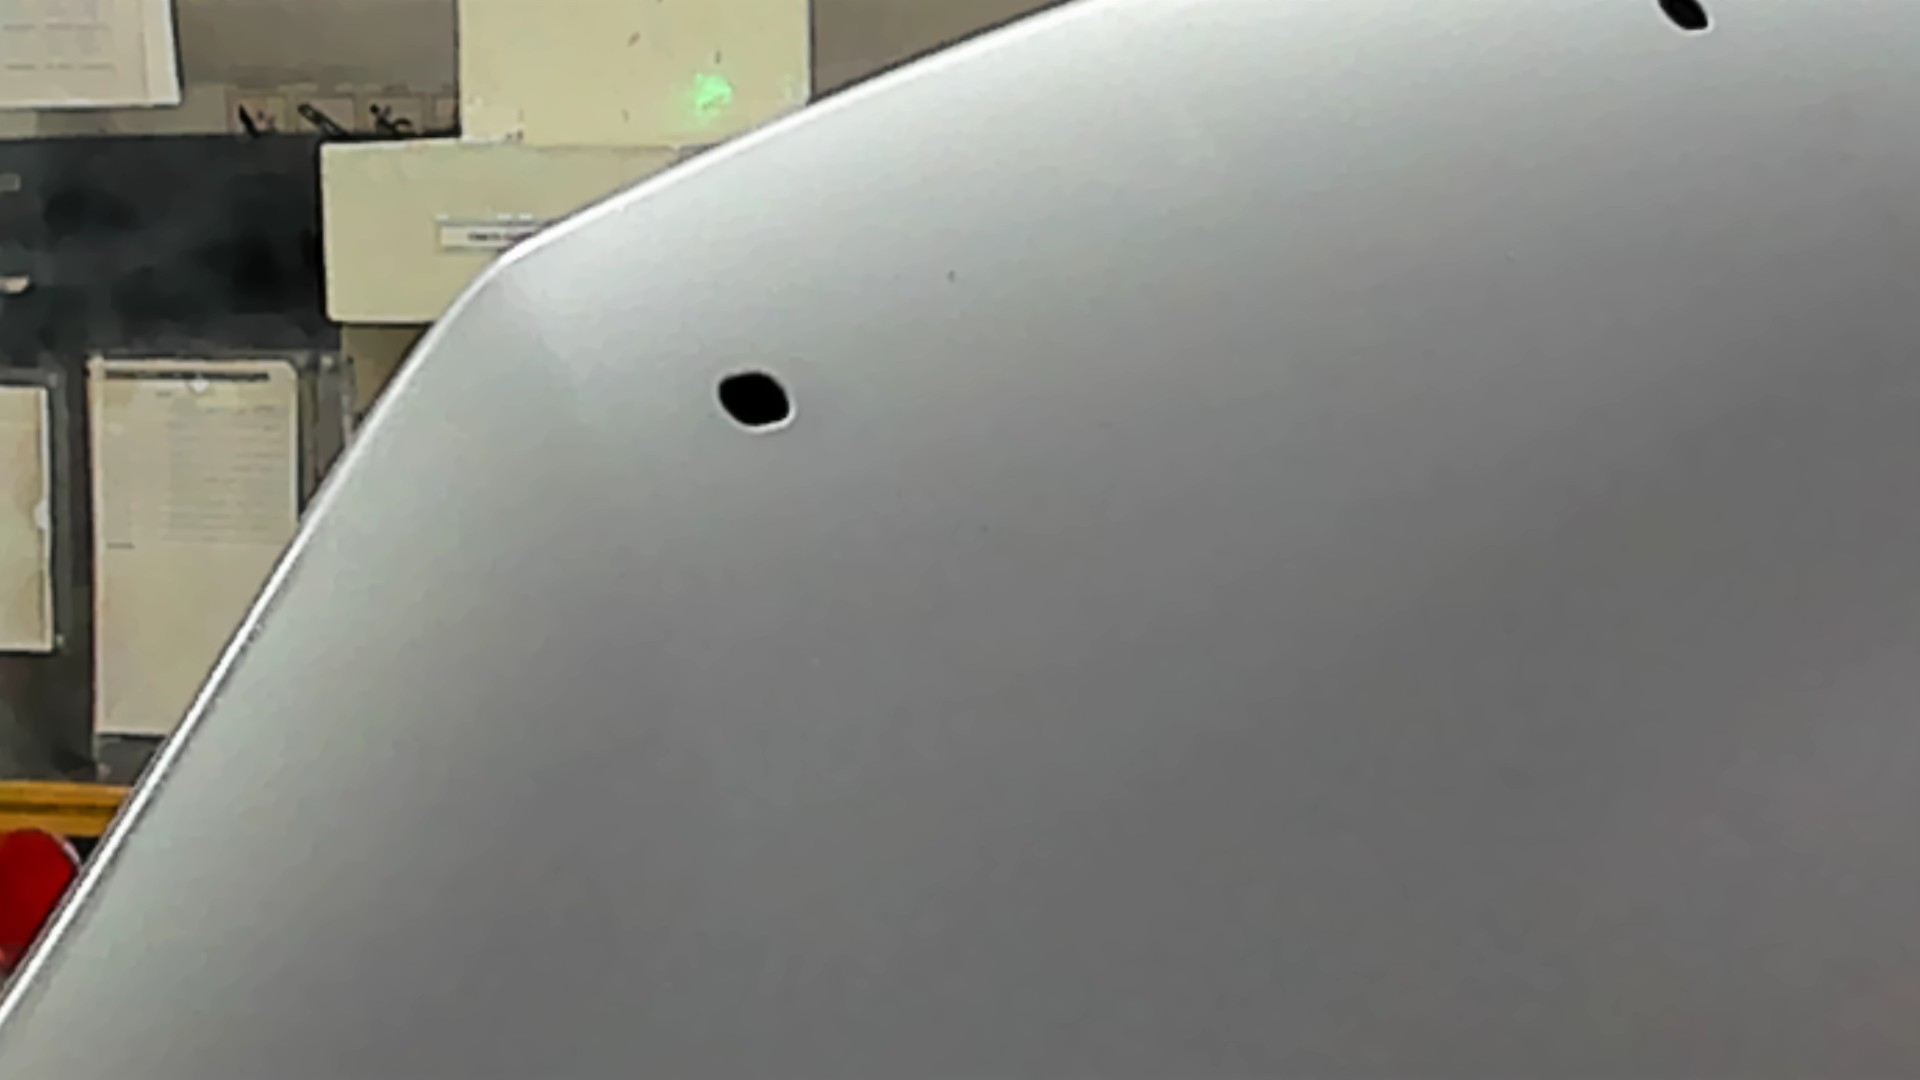chico: (698, 353, 819, 442), (1642, 1, 1727, 44)
